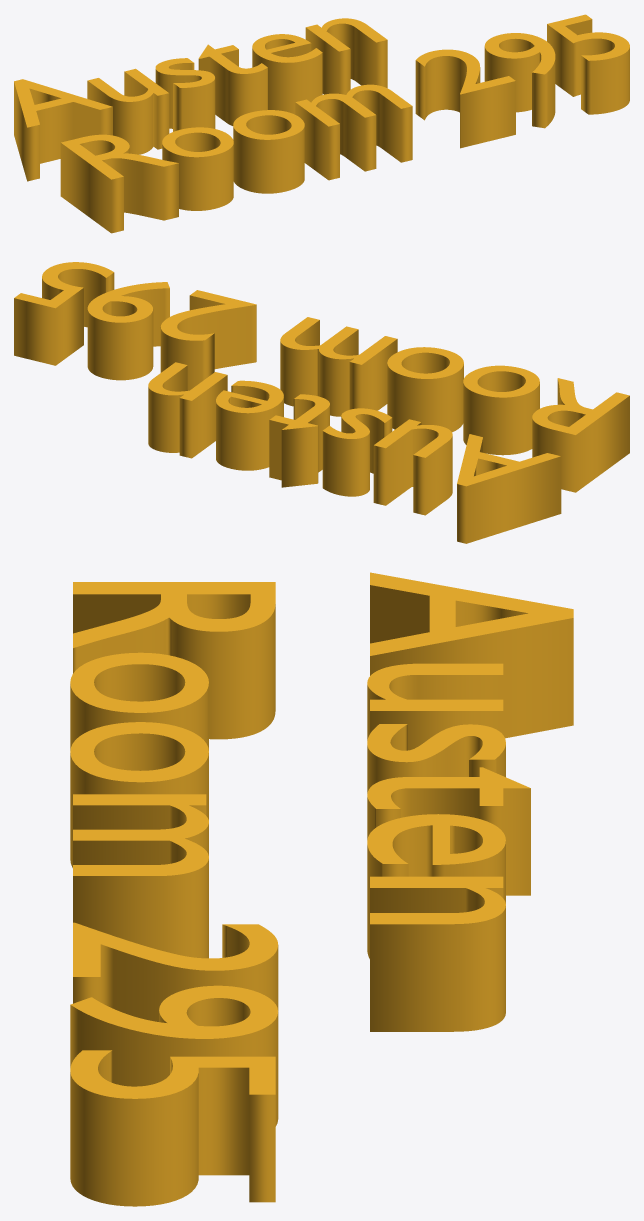
File: austen-295.gltf
3 views of the same model, one above another, from view 1: azimuth 30°, elevation 25°; view 2: azimuth 150°, elevation 25°; view 3: azimuth 270°, elevation 25° (orthographic). The views are drawn at different scales.
Visible parts, largest first — view 1: Text; view 2: Text; view 3: Text.
Boxes of the visible parts, <box> form: Text: <box>14,14,629,233</box>; Text: <box>14,262,629,543</box>; Text: <box>70,572,573,1206</box>.
Bounding box in the file's own units: 4.2 × 0.4 × 1.69.
